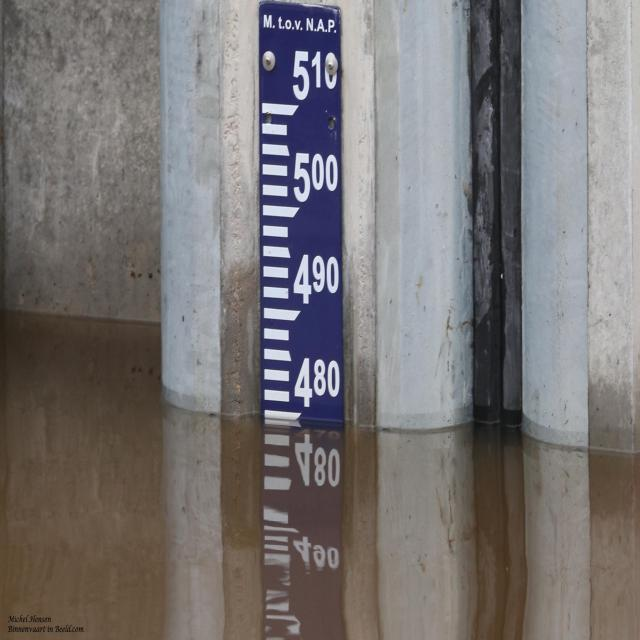80: (313, 351, 339, 398)
90: (312, 251, 340, 295)
staff: (255, 6, 350, 440)
